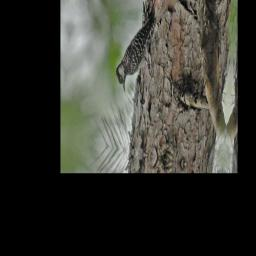Woodpecker: (114, 0, 157, 102)
